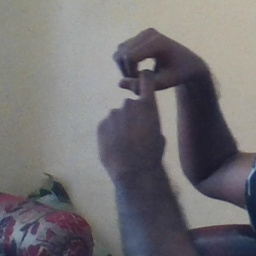Q: (95, 26, 192, 160)
